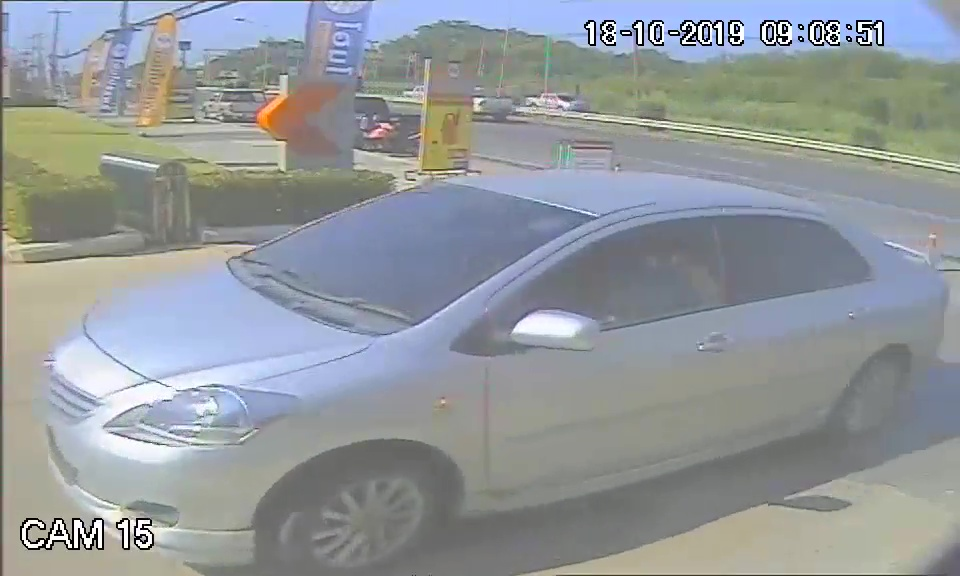sedan: (27, 169, 899, 568)
